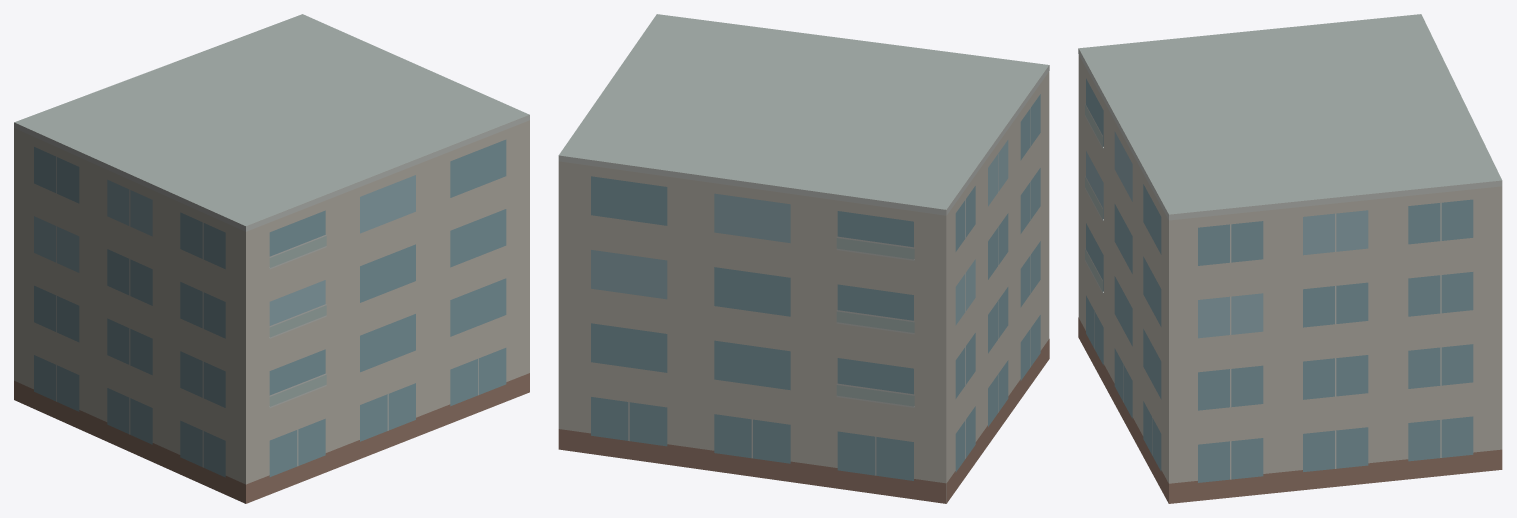
The model's file is survey-upis-32966625.glb.
3 renders of one model, left to right at view 1: azimuth 30°, elevation 25°; view 2: azimuth 150°, elevation 25°; view 3: azimuth 270°, elevation 25°, orthographic. The views are drawn at different scales.
Visible parts, largest first — view 1: survey-upis-32966625.tmp; view 2: survey-upis-32966625.tmp; view 3: survey-upis-32966625.tmp.
Part boxes in pixels (x1,y1,x2,y2): survey-upis-32966625.tmp: (14, 14, 529, 503); survey-upis-32966625.tmp: (558, 14, 1049, 503); survey-upis-32966625.tmp: (1078, 14, 1502, 503).
Size of the model in its own units: 18.01 by 12.1 by 16.08.
